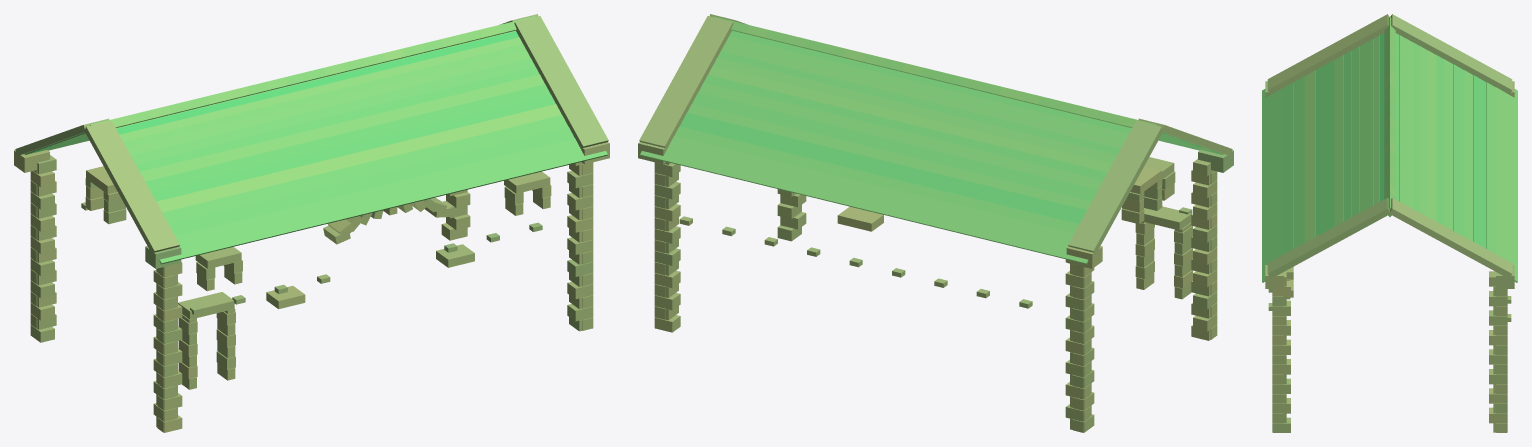
File: SM_Bld_008_Stone.glb
The picture shows the model from 3 angles, left to right: view 1: azimuth 30°, elevation 25°; view 2: azimuth 150°, elevation 25°; view 3: azimuth 270°, elevation 25°; orthographic projection. The views are drawn at different scales.
Parts seen in each view (by area): view 1: SM_Bld_008_Stone; view 2: SM_Bld_008_Stone; view 3: SM_Bld_008_Stone.
Boxes of the visible parts, x1=… form: SM_Bld_008_Stone: x1=14, y1=14, x2=609, y2=432; SM_Bld_008_Stone: x1=638, y1=14, x2=1233, y2=432; SM_Bld_008_Stone: x1=1262, y1=14, x2=1517, y2=432.
Size of the model in its own units: 12.85 by 7.06 by 7.14.
